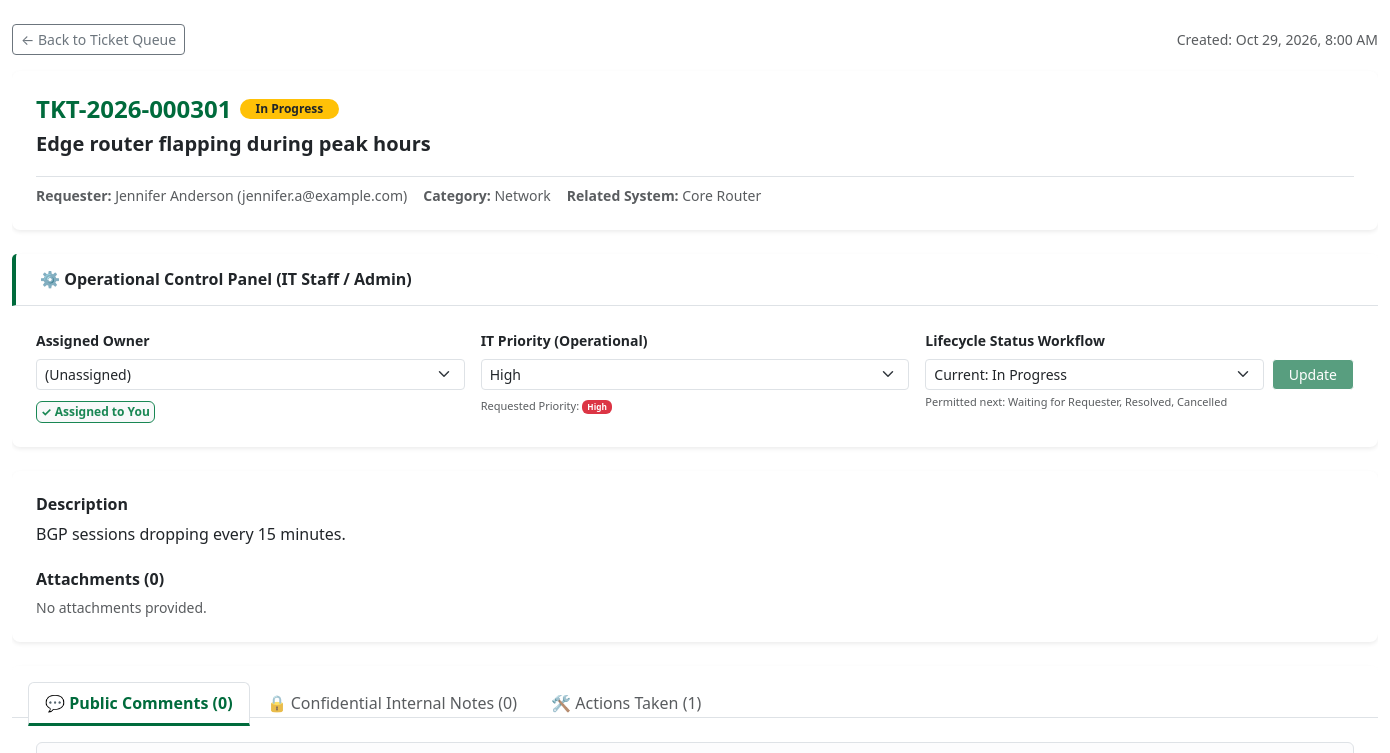
Sprint 4 Issue 4: Ticket Workflow Hardening & Resolution Gate (FR-07, BR-10..13, AC-08) › allows advancing status to Resolved when ticket has recorded Actions Taken (AC-08)
Advance to: Resolved
Select "Advance to: Resolved" in the dropdown with test id "staff-status-select" at (1094, 374), box [925,359,1264,390]
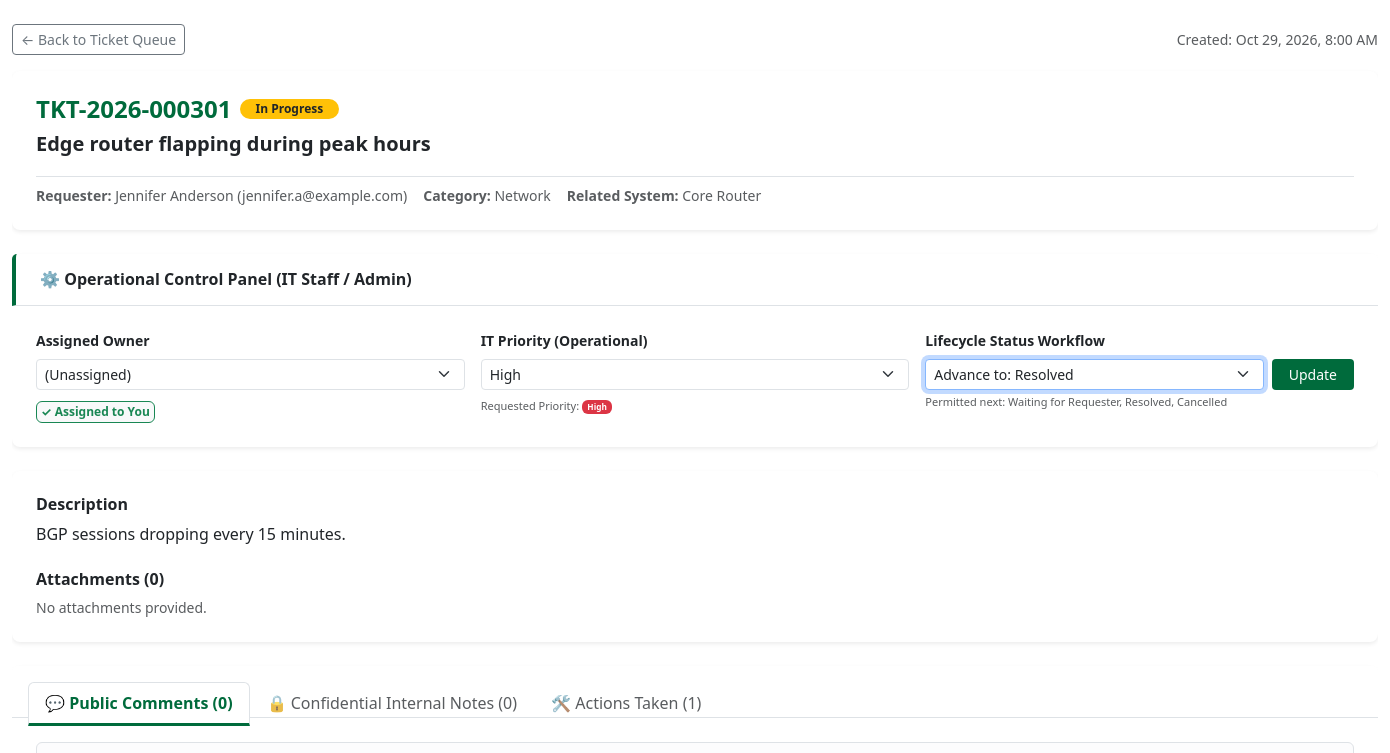
Click Update
Click the button with test id "update-status-btn" at (1313, 374), box [1272,359,1354,390]
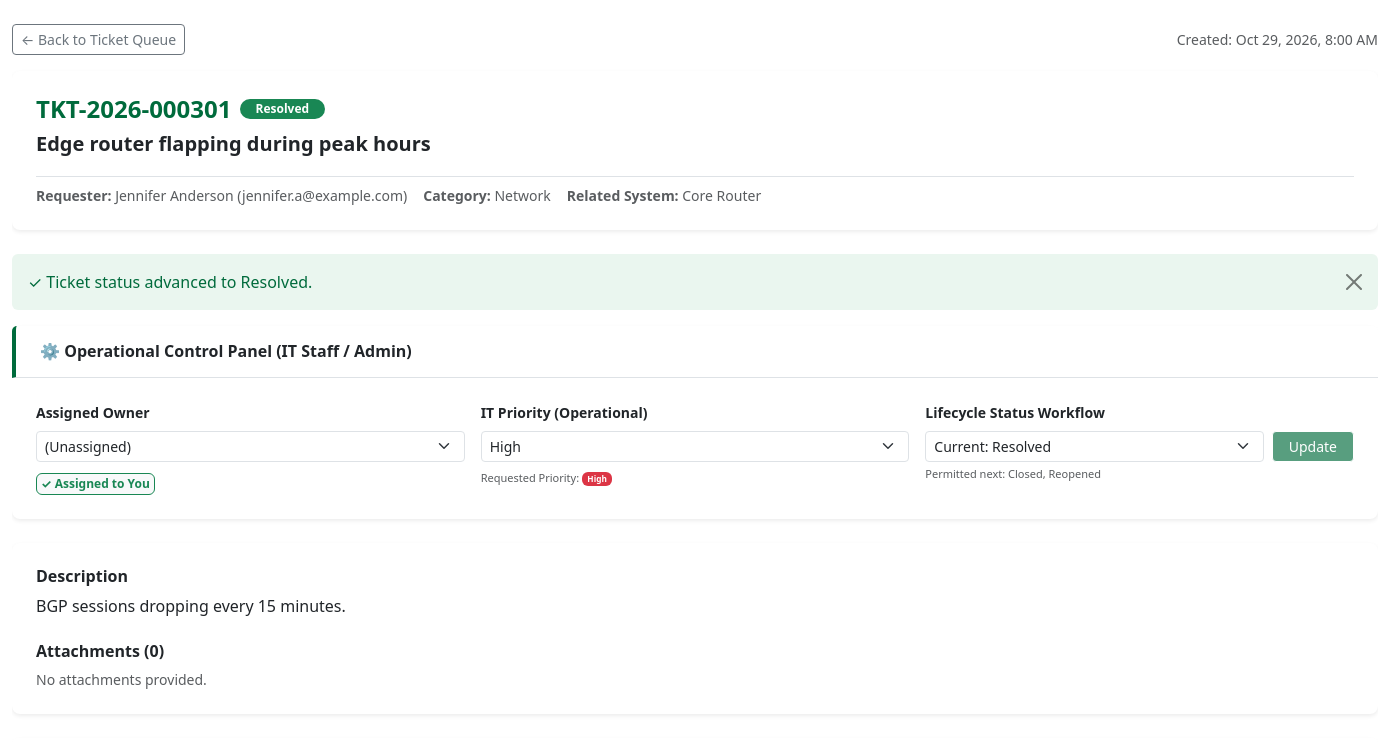
Result: the text "✓ Ticket status advanced to Resolved." is shown at [12,254,1378,310]
